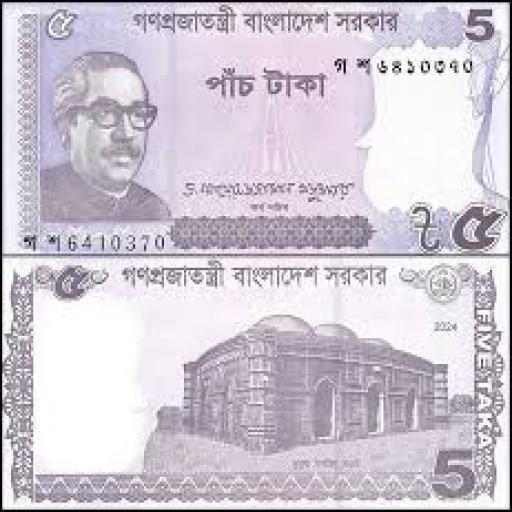5taka: (0, 0, 510, 254), (0, 256, 510, 510)
